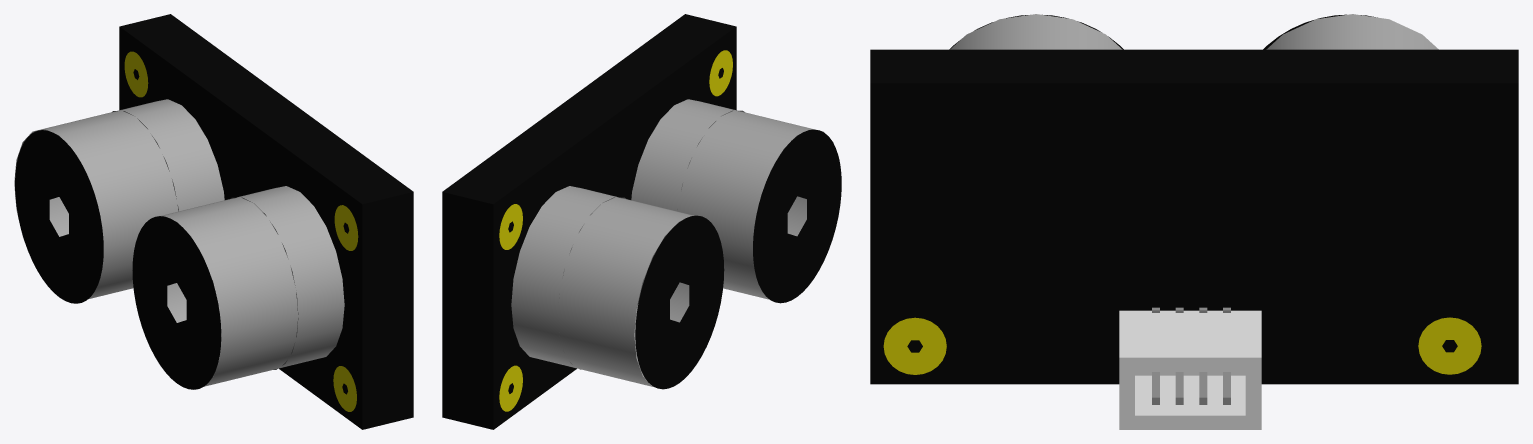
File: Ultrasonic.fbx
The picture shows the model from 3 angles, left to right: view 1: azimuth 30°, elevation 25°; view 2: azimuth 150°, elevation 25°; view 3: azimuth 270°, elevation 25°; orthographic projection. The views are drawn at different scales.
Visible parts, largest first — view 1: ROOOO14:pasted__pasted__pasted__pasted__pasted__pasted__past, ROOOO14:pasted__pCylinder4, ROOOO14:pasted__pasted__pCylinder4, ROOOO14:pasted__pasted__pDisc2, ROOOO14:pasted__pDisc2, pasted__pDisc1, pasted__pasted__pasted__pDisc1, pasted__pasted__pasted__pDisc2; view 2: ROOOO14:pasted__pasted__pasted__pasted__pasted__pasted__past, ROOOO14:pasted__pasted__pCylinder4, ROOOO14:pasted__pCylinder4, ROOOO14:pasted__pasted__pDisc2, ROOOO14:pasted__pDisc2, pasted__pasted__pasted__pDisc2, pasted__pasted__pasted__pDisc1, pasted__pasted__pDisc3; view 3: ROOOO14:pasted__pasted__pasted__pasted__pasted__pasted__past, ROOOO14:pasted__pasted__pasted__pasted__pasted__pasted__pCub (×2), ROOOO14:pasted__pasted__pasted__pasted__pasted__pCube5, ROOOO14:pasted__pCylinder4, ROOOO14:pasted__pasted__pCylinder4, pasted__pasted__pDisc1, pasted__pasted__pDisc2, ROOOO14:pasted__pasted__pasted__pasted__pasted__pCube4.
Boxes of the visible parts, x1,y1,x2,y2 form: ROOOO14:pasted__pasted__pasted__pasted__pasted__pasted__past: (119,14,413,429); ROOOO14:pasted__pCylinder4: (151,186,344,386); ROOOO14:pasted__pasted__pCylinder4: (14,99,224,299); ROOOO14:pasted__pasted__pDisc2: (132,216,221,389); ROOOO14:pasted__pDisc2: (15,130,103,303); pasted__pDisc1: (333,366,356,411); pasted__pasted__pasted__pDisc1: (334,205,358,250); pasted__pasted__pasted__pDisc2: (124,51,148,97); ROOOO14:pasted__pasted__pasted__pasted__pasted__pasted__past: (442,14,736,429); ROOOO14:pasted__pasted__pCylinder4: (511,186,693,389); ROOOO14:pasted__pCylinder4: (631,99,839,299); ROOOO14:pasted__pasted__pDisc2: (753,129,841,303); ROOOO14:pasted__pDisc2: (635,215,724,389); pasted__pasted__pasted__pDisc2: (499,204,522,249); pasted__pasted__pasted__pDisc1: (709,50,732,96); pasted__pasted__pDisc3: (499,365,522,411); ROOOO14:pasted__pasted__pasted__pasted__pasted__pasted__past: (870,49,1518,384); ROOOO14:pasted__pasted__pasted__pasted__pasted__pasted__pCub (×2): (1119,310,1261,429); ROOOO14:pasted__pasted__pasted__pasted__pasted__pCube5: (1119,375,1261,429); ROOOO14:pasted__pCylinder4: (950,14,1122,49); ROOOO14:pasted__pasted__pCylinder4: (1266,14,1438,49); pasted__pasted__pDisc1: (883,317,946,374); pasted__pasted__pDisc2: (1418,317,1481,374); ROOOO14:pasted__pasted__pasted__pasted__pasted__pCube4: (1119,357,1134,429).
Bounding box in the file's own units: 3.61 × 3.15 × 6.15.
